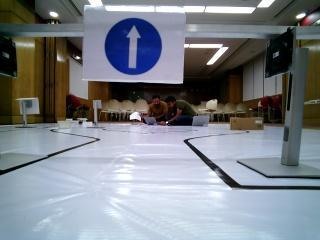straight: (85, 7, 183, 78)
